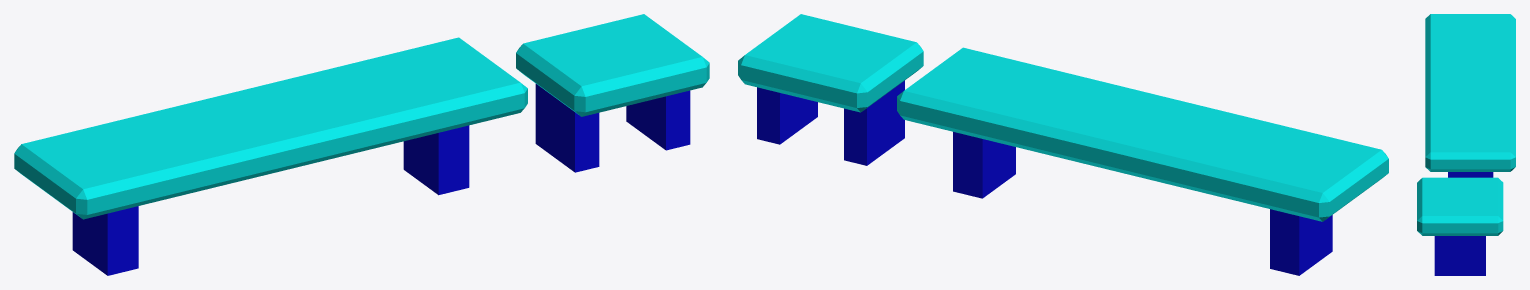
File: benches_LP.fbx
The picture shows the model from 3 angles, left to right: view 1: azimuth 30°, elevation 25°; view 2: azimuth 150°, elevation 25°; view 3: azimuth 270°, elevation 25°; orthographic projection. The views are drawn at different scales.
Visible parts, largest first — view 1: big_LP, small_LP; view 2: big_LP, small_LP; view 3: big_LP, small_LP.
Boxes of the visible parts, x1=… form: big_LP: x1=14, y1=37, x2=527, y2=275; small_LP: x1=516, y1=14, x2=709, y2=172; big_LP: x1=897, y1=47, x2=1388, y2=275; small_LP: x1=738, y1=14, x2=923, y2=165; big_LP: x1=1425, y1=14, x2=1515, y2=177; small_LP: x1=1417, y1=177, x2=1503, y2=275.
Bounding box in the file's own units: 4.01 × 0.6499 × 0.8432.
